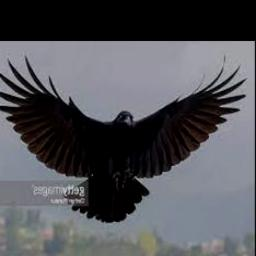Crow: (0, 54, 247, 222)
